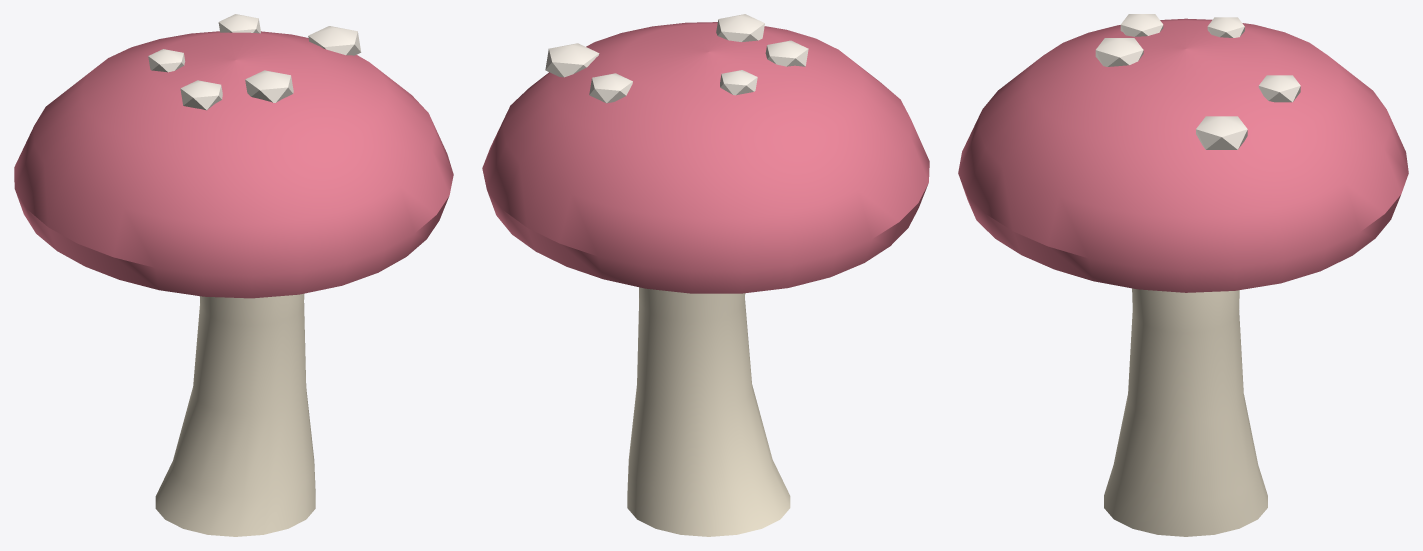
The model's file is mushroom.glb.
3 renders of one model, left to right at view 1: azimuth 30°, elevation 25°; view 2: azimuth 150°, elevation 25°; view 3: azimuth 270°, elevation 25°, orthographic. The views are drawn at different scales.
Visible parts, largest first — view 1: cap, stem, spot4, spot0, spot3, spot2, spot1; view 2: cap, stem, spot0, spot4, spot1, spot3, spot2; view 3: cap, stem, spot0, spot4, spot1, spot3, spot2.
Boxes of the visible parts, x1,y1,x2,y2 form: cap: (14,31,453,298); stem: (155,293,315,536); spot4: (245,70,293,102); spot0: (308,26,361,55); spot3: (180,80,222,110); spot2: (148,49,185,72); spot1: (218,14,260,33); cap: (482,22,929,293); stem: (627,287,790,536); spot0: (545,43,599,77); spot4: (716,14,764,42); spot1: (589,73,632,103); spot3: (765,40,808,66); spot2: (720,70,757,95); cap: (958,18,1408,292); stem: (1104,288,1267,536); spot0: (1196,116,1247,149); spot4: (1095,38,1143,66); spot1: (1258,75,1300,102); spot3: (1120,14,1163,36); spot2: (1207,17,1244,37).
Bounding box in the file's own units: 0.92 × 1.05 × 0.92.
